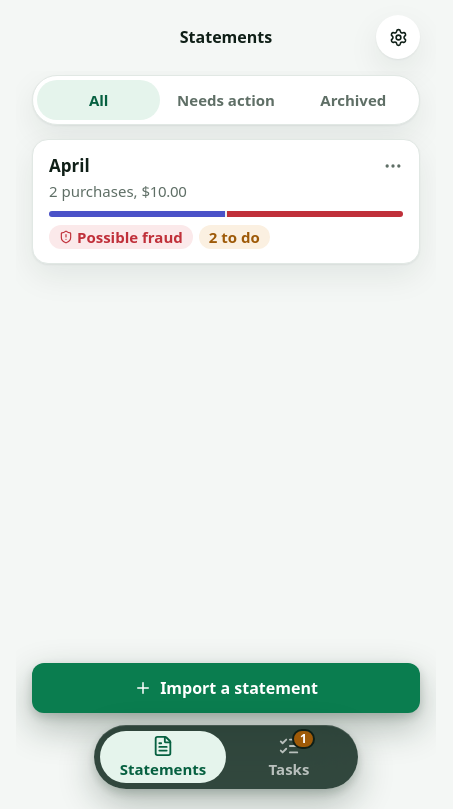
Test: App › Tasks › lists flagged and filed purchases by status, possible fraud first, marking old ones overdue
This screenshot has width=453, height=809.
Click the button with aria-label "Tasks, 1 overdue" at (289, 757), box left=226, top=731, right=352, bottom=783
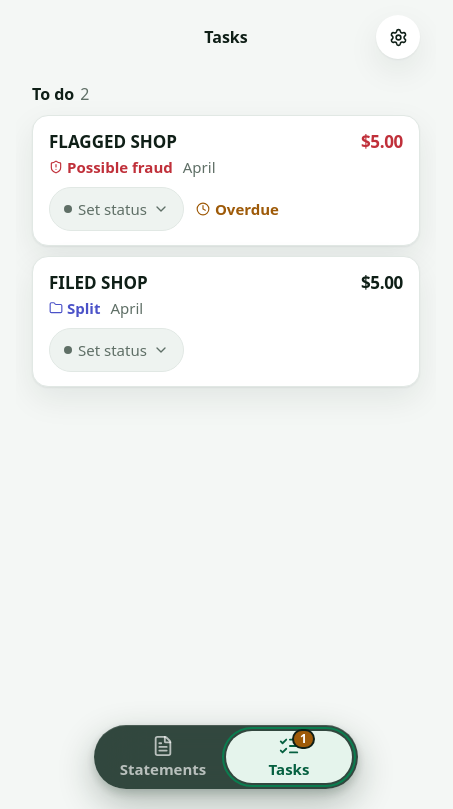
Expected: the heading "Tasks" is shown, left=204, top=26, right=248, bottom=48
Expected: the text "FLAGGED SHOP" is shown, left=49, top=130, right=177, bottom=153
Expected: the text "Overdue" is shown, left=196, top=199, right=279, bottom=219
